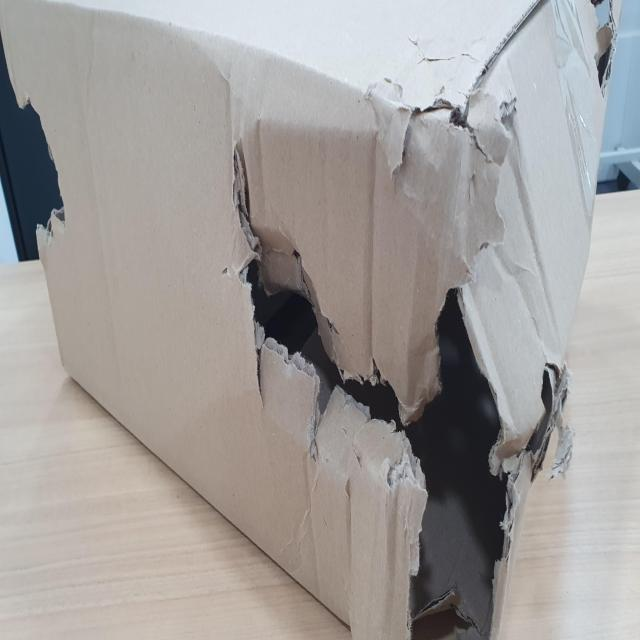damaged: (230, 144, 409, 453), (405, 249, 512, 640)
